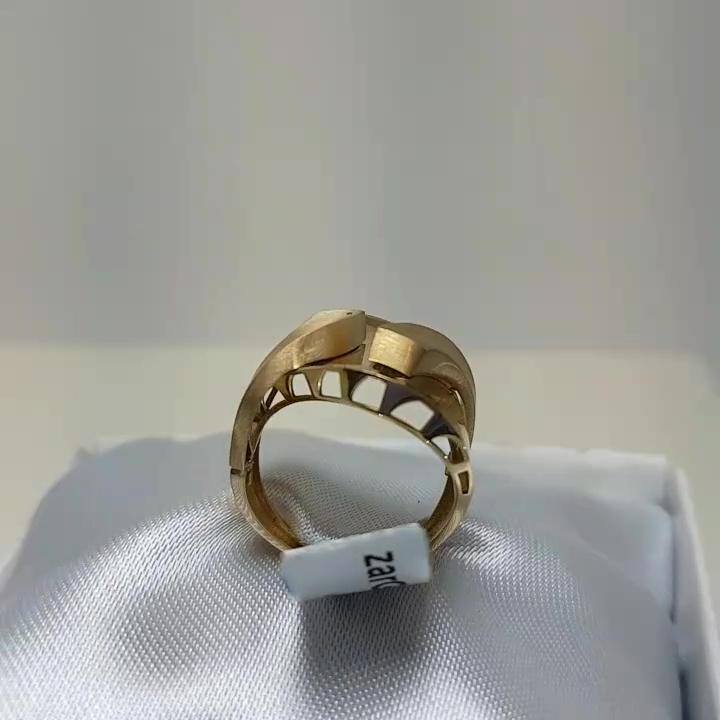Ring 4: (212, 273, 519, 596)
